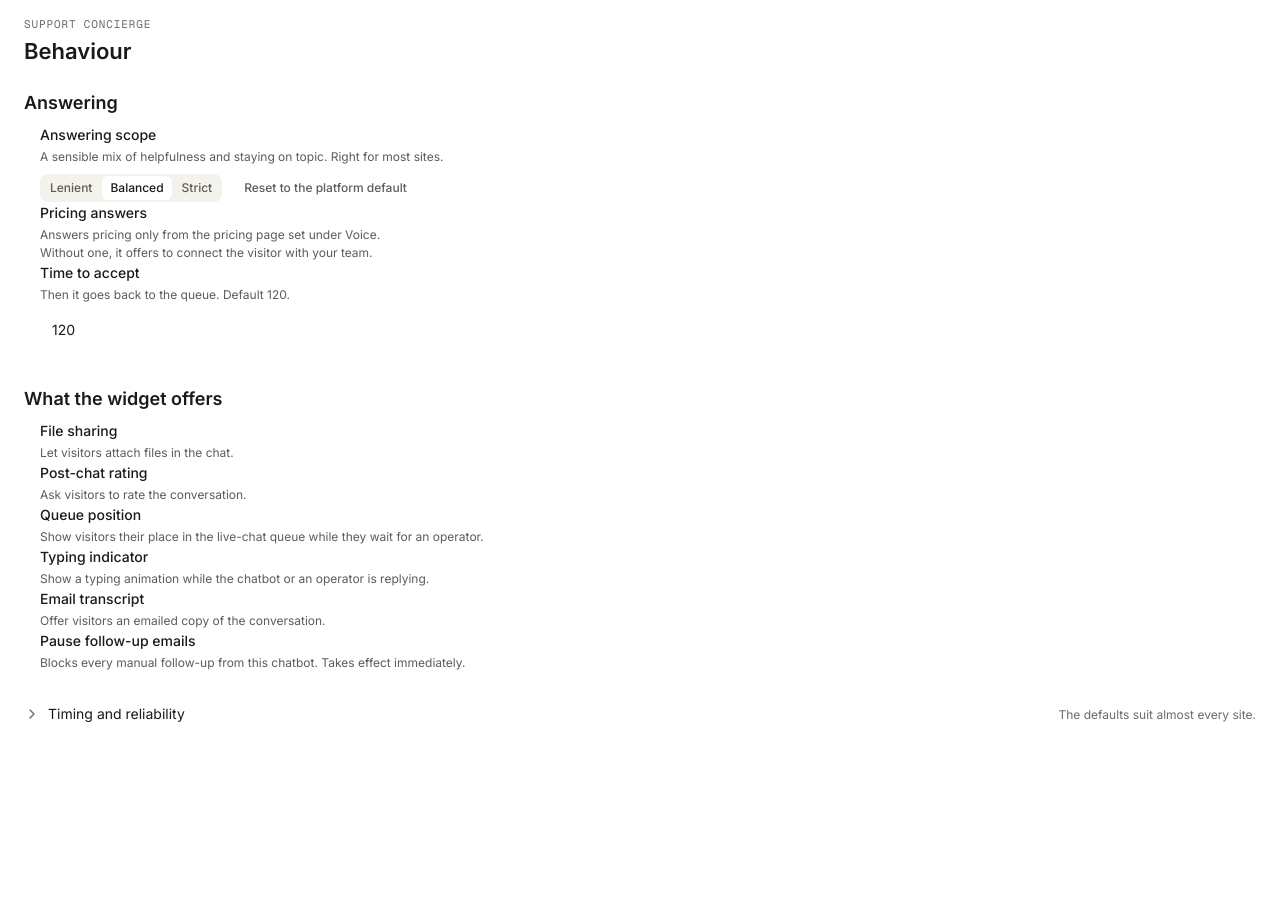
Test: the dirty / save contract › discards back to the loaded values
Expected: the heading "Answering" is shown, [24,90,118,116]
Click the radio button labelled "Strict" at [197, 188], box [174,176,220,200]
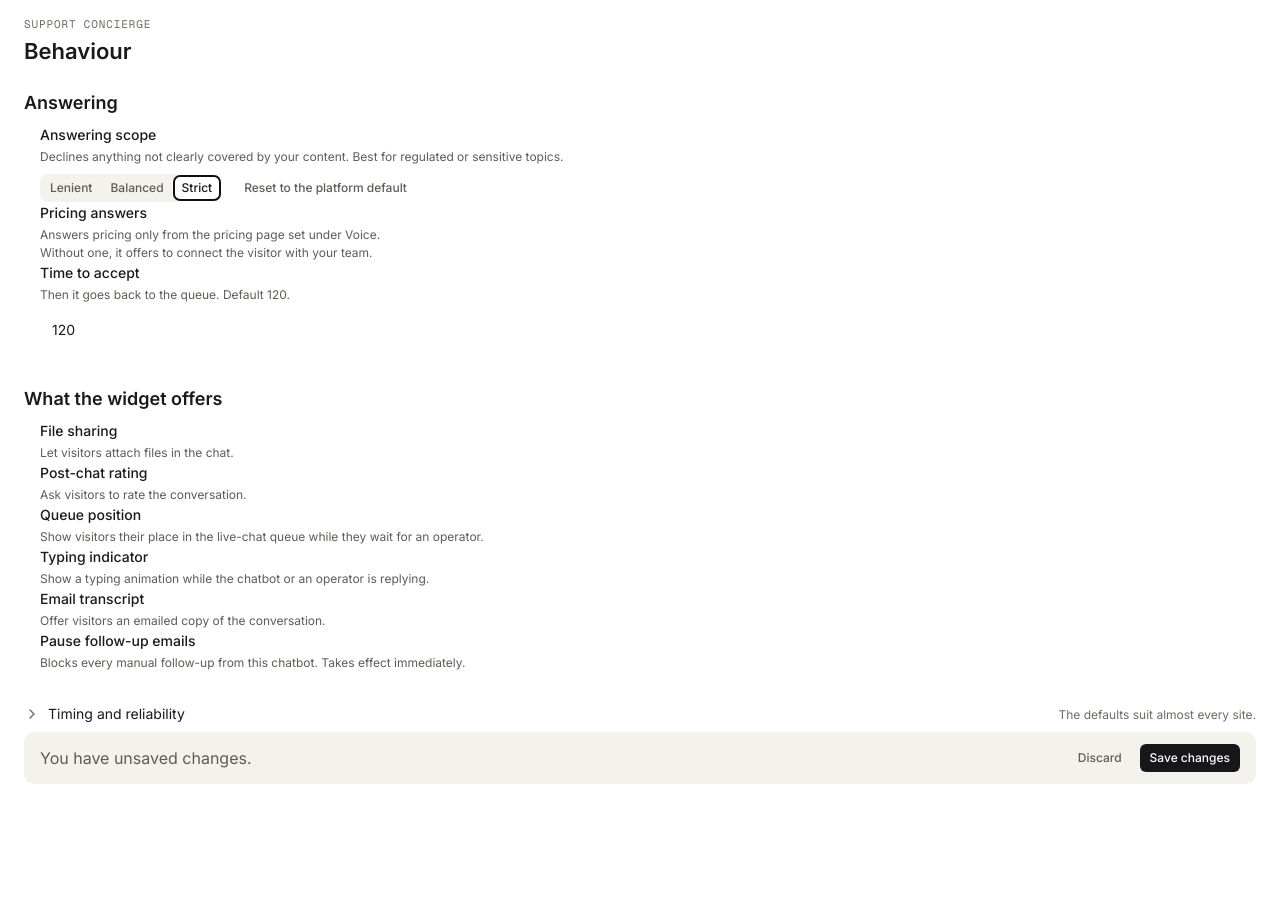
Click the button "Discard" at [1100, 758], box [1068,744,1132,772]
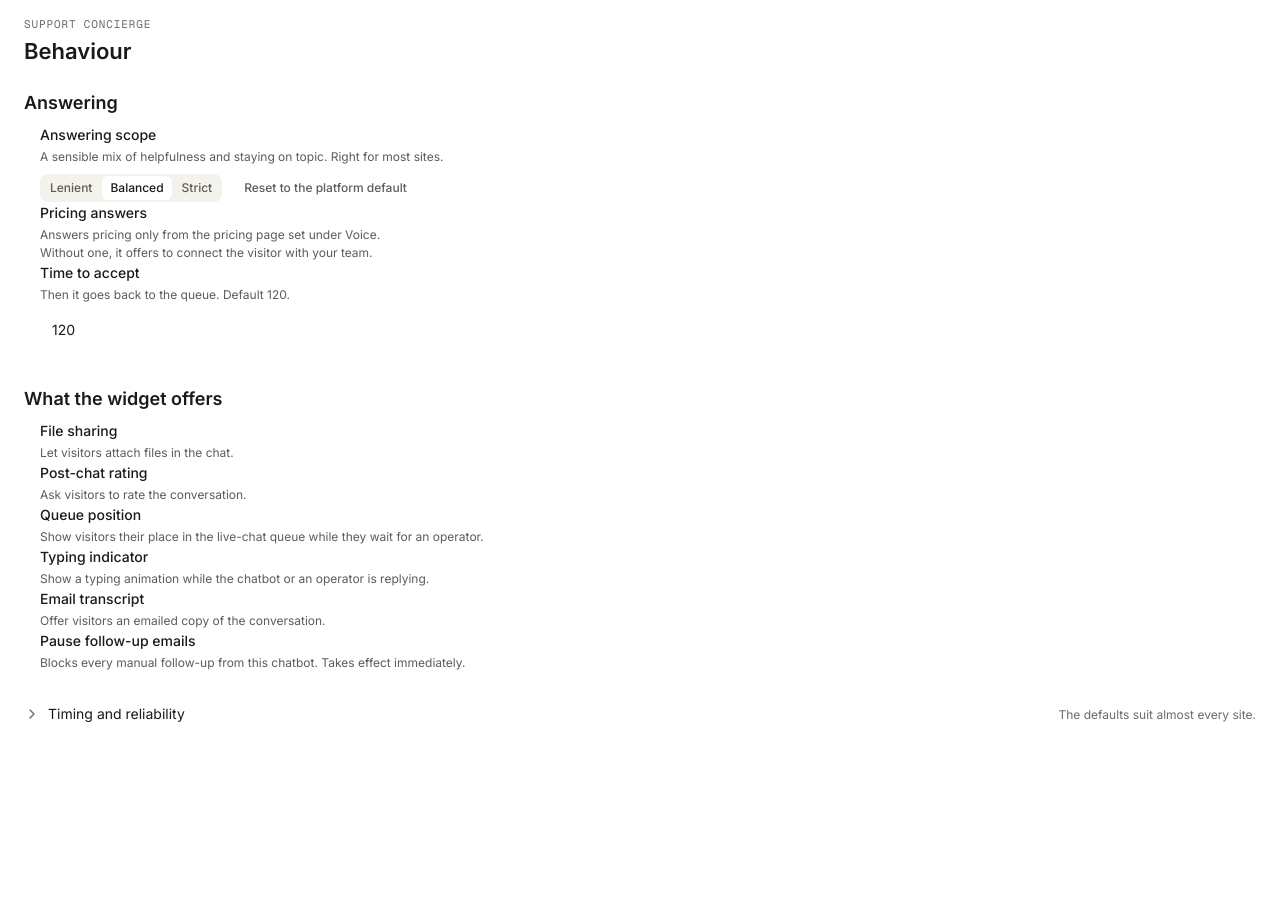
Result: the button "Save changes" is gone
